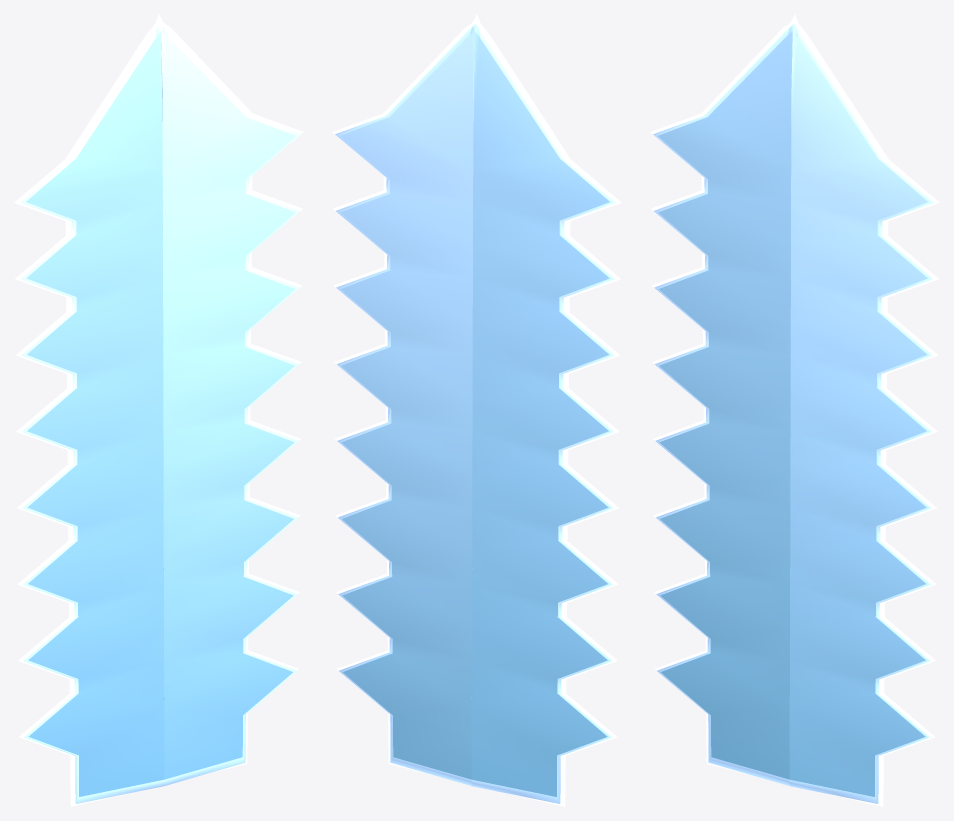
File: steel_blade (13).glb
3 renders of one model, left to right at view 1: azimuth 30°, elevation 25°; view 2: azimuth 150°, elevation 25°; view 3: azimuth 330°, elevation 25°, orthographic.
Parts seen in each view (by area): view 1: steel_blade_steel.050; view 2: steel_blade_steel.050; view 3: steel_blade_steel.050.
Part boxes in pixels (bbox=[...]): steel_blade_steel.050: bbox=[14, 14, 303, 806]; steel_blade_steel.050: bbox=[332, 14, 621, 806]; steel_blade_steel.050: bbox=[650, 14, 939, 806].
Size of the model in its own units: 4.48 by 11.41 by 0.2879.
1 material, 1 textured.
